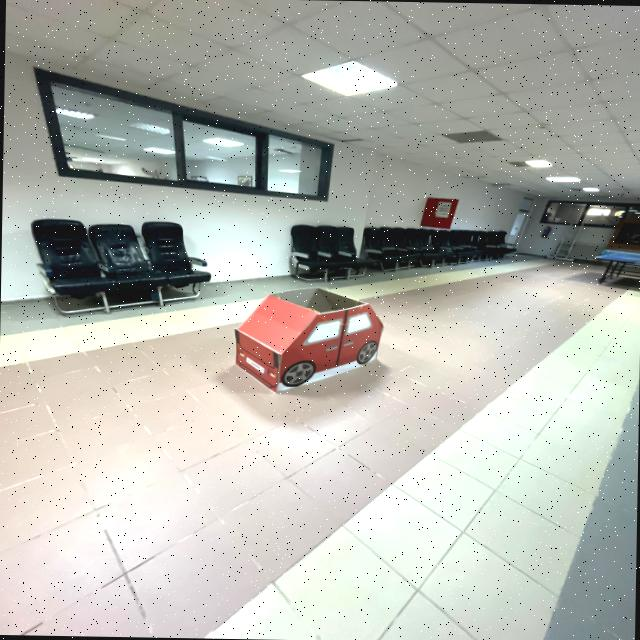red_car: (223, 283, 391, 399)
